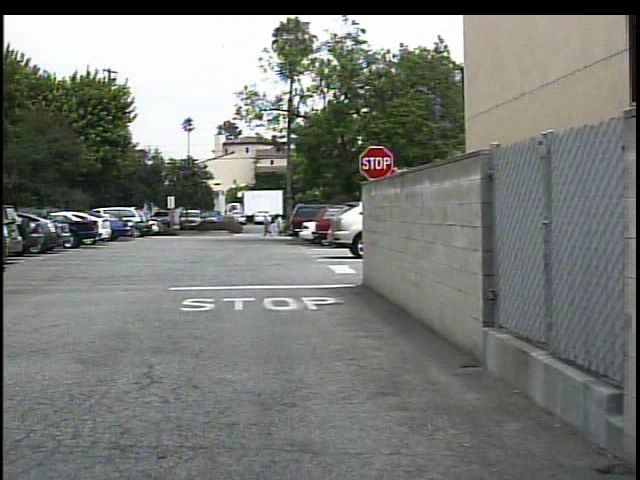person: (254, 214, 268, 240), (267, 213, 280, 238)
